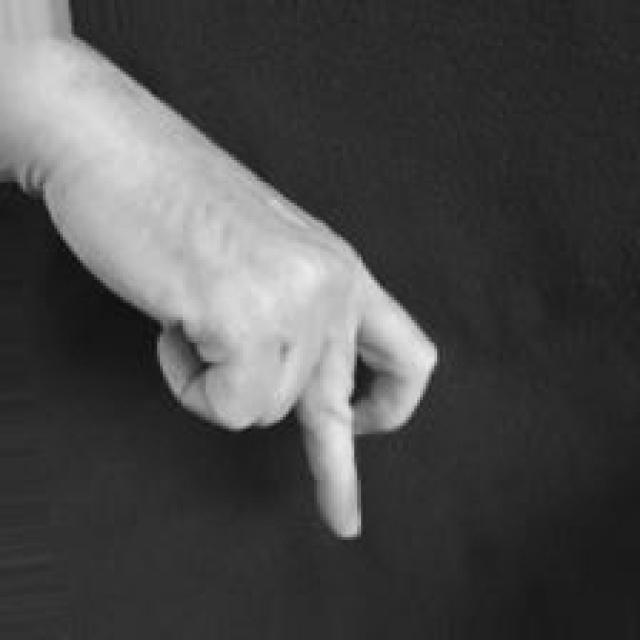P: (45, 71, 452, 553)
